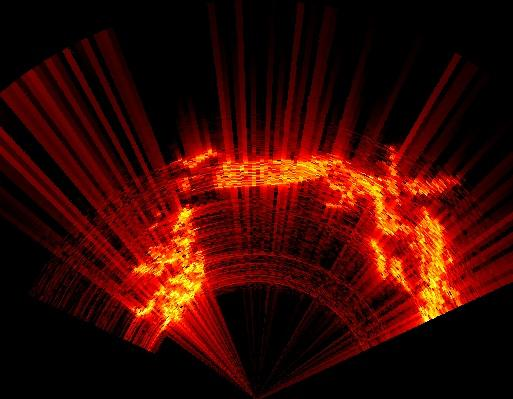shipwreck: (214, 156, 458, 320), (133, 208, 203, 330), (370, 238, 410, 289), (183, 151, 219, 168)
